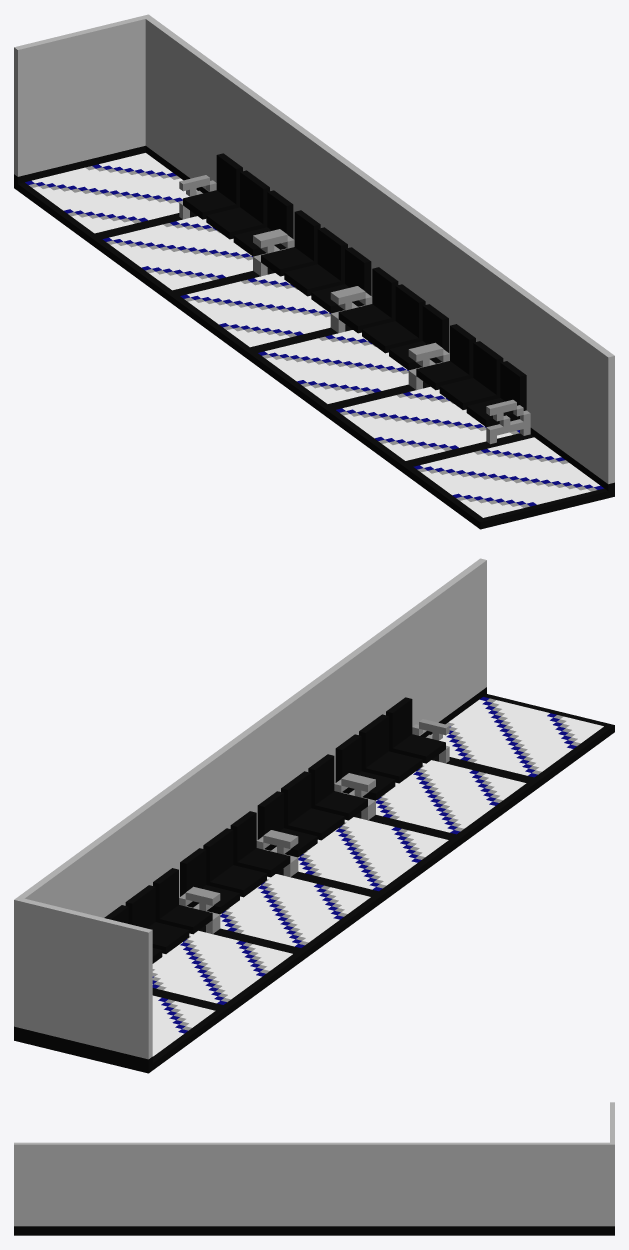
File: LHall+wall+chairs.obj
3 views of the same model, one above another, from view 1: azimuth 30°, elevation 25°; view 2: azimuth 150°, elevation 25°; view 3: azimuth 270°, elevation 25° (orthographic). The views are drawn at different scales.
Visible parts, largest first — view 1: LHall+wall+chairs; view 2: LHall+wall+chairs; view 3: LHall+wall+chairs.
Boxes of the visible parts, bbox=[...] form: LHall+wall+chairs: bbox=[14, 14, 614, 529]; LHall+wall+chairs: bbox=[14, 558, 614, 1073]; LHall+wall+chairs: bbox=[14, 1102, 614, 1235].
Size of the model in its own units: 20 by 20 by 120.
Materials: 1 (1 with a texture image).
